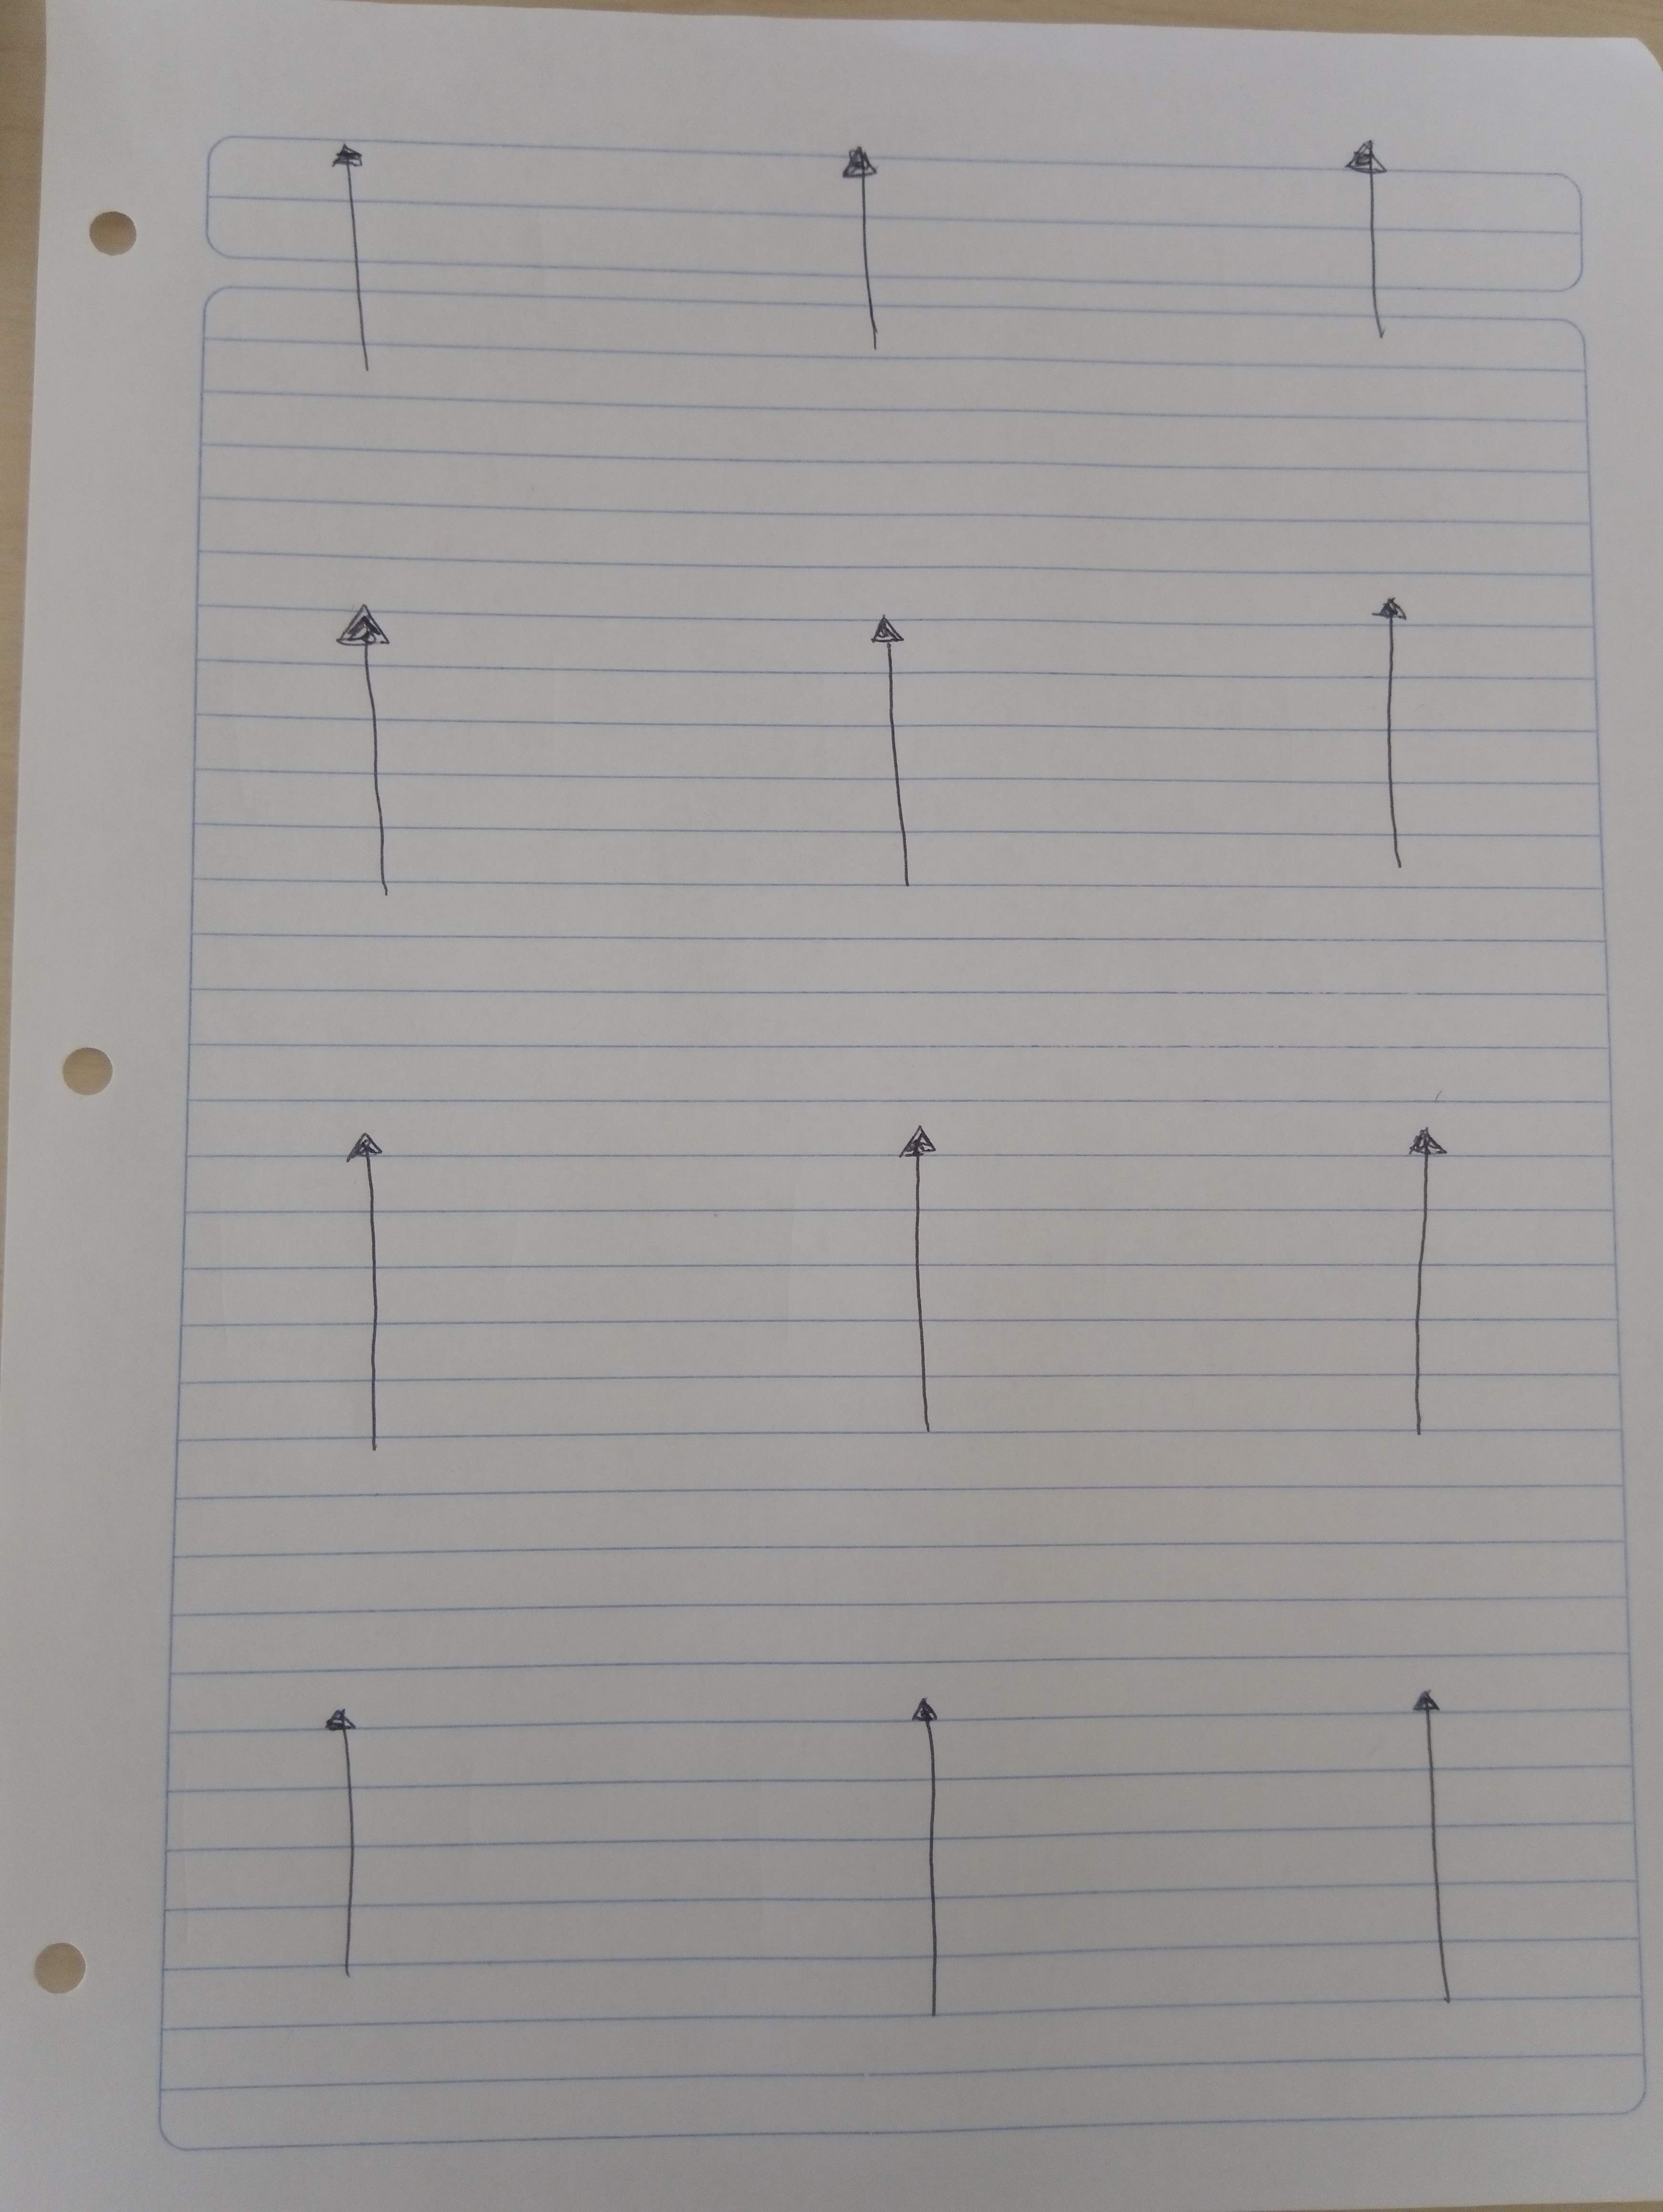arrow_line_up: (1394, 1662, 1522, 2050), (290, 124, 421, 403), (838, 597, 949, 915), (1352, 601, 1464, 911), (859, 1109, 963, 1414), (328, 597, 424, 880), (328, 1107, 402, 1475), (1397, 1100, 1471, 1453), (898, 1681, 964, 2022), (320, 1700, 397, 1980), (828, 124, 914, 368), (1343, 120, 1406, 372)
